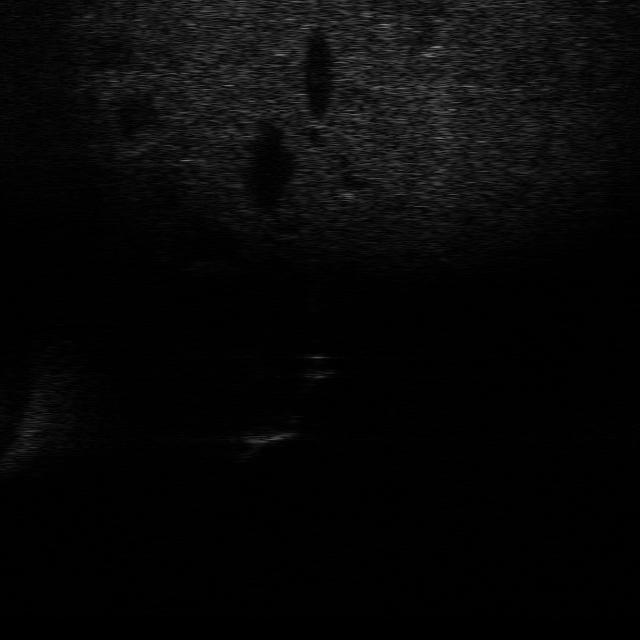ball: (288, 347, 342, 384)
square cage: (232, 413, 306, 453)
